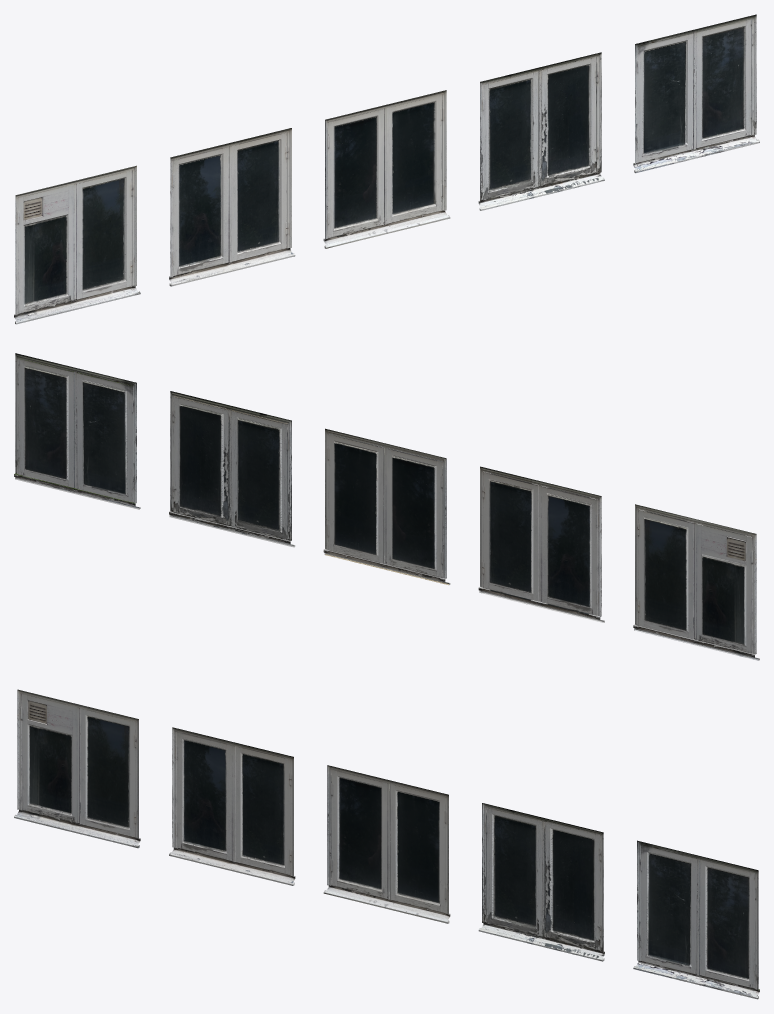
The picture shows the model from 3 angles, top to bottom: view 1: azimuth 30°, elevation 25°; view 2: azimuth 150°, elevation 25°; view 3: azimuth 330°, elevation 25°; orthographic projection.
Visible parts, largest first — view 1: WINDOW3, WINDOW2, WINDOW4, WINDOW5, WINDOW1; view 2: WINDOW3, WINDOW2, WINDOW4, WINDOW1, WINDOW5; view 3: WINDOW3, WINDOW1, WINDOW2, WINDOW4, WINDOW5.
Part boxes in pixels (box(x1,y1,x2,y2)): WINDOW3: box(323, 90, 450, 248); WINDOW2: box(169, 128, 295, 286); WINDOW4: box(478, 52, 604, 210); WINDOW5: box(633, 14, 759, 173); WINDOW1: box(14, 165, 140, 324); WINDOW3: box(323, 428, 450, 585); WINDOW2: box(478, 466, 604, 622); WINDOW4: box(169, 391, 295, 547); WINDOW1: box(633, 504, 759, 660); WINDOW5: box(14, 353, 140, 509); WINDOW3: box(323, 765, 450, 923); WINDOW1: box(14, 689, 140, 848); WINDOW2: box(169, 727, 295, 885); WINDOW4: box(478, 803, 604, 961); WINDOW5: box(633, 840, 759, 999).
Size of the model in its own units: 7.63 by 1.25 by 0.064.
Materials: 1 (1 with a texture image).
